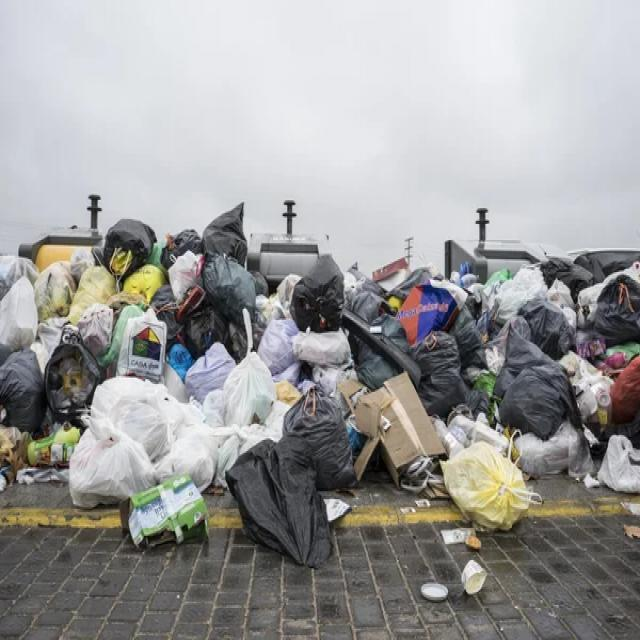garbage: (0, 200, 640, 576), (418, 553, 495, 608)
